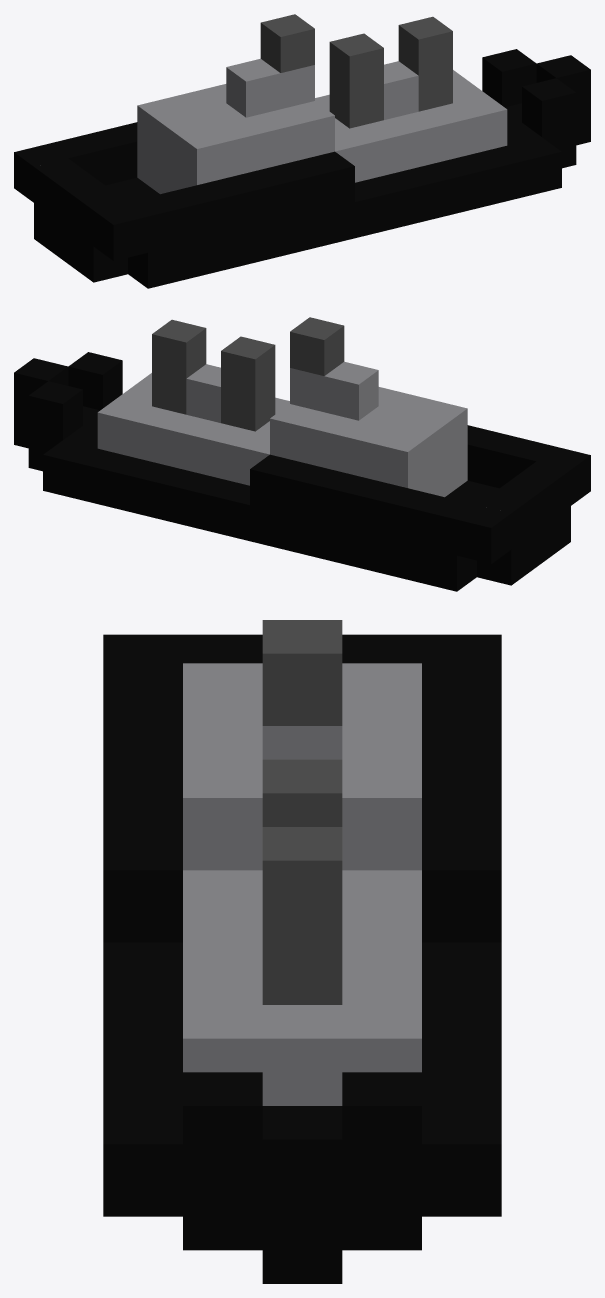
Rendered from battleship.glb.
The picture shows the model from 3 angles, top to bottom: view 1: azimuth 30°, elevation 25°; view 2: azimuth 150°, elevation 25°; view 3: azimuth 270°, elevation 25°; orthographic projection. The views are drawn at different scales.
Visible parts, largest first — view 1: battleship; view 2: battleship; view 3: battleship.
Boxes of the visible parts, left/top/right/bottom form: battleship: left=14, top=14, right=590, bottom=288; battleship: left=14, top=317, right=590, bottom=591; battleship: left=103, top=620, right=501, bottom=1283.
Bounding box in the file's own units: 0.5482 × 0.1827 × 0.1827.
Materials: 1 (1 with a texture image).
